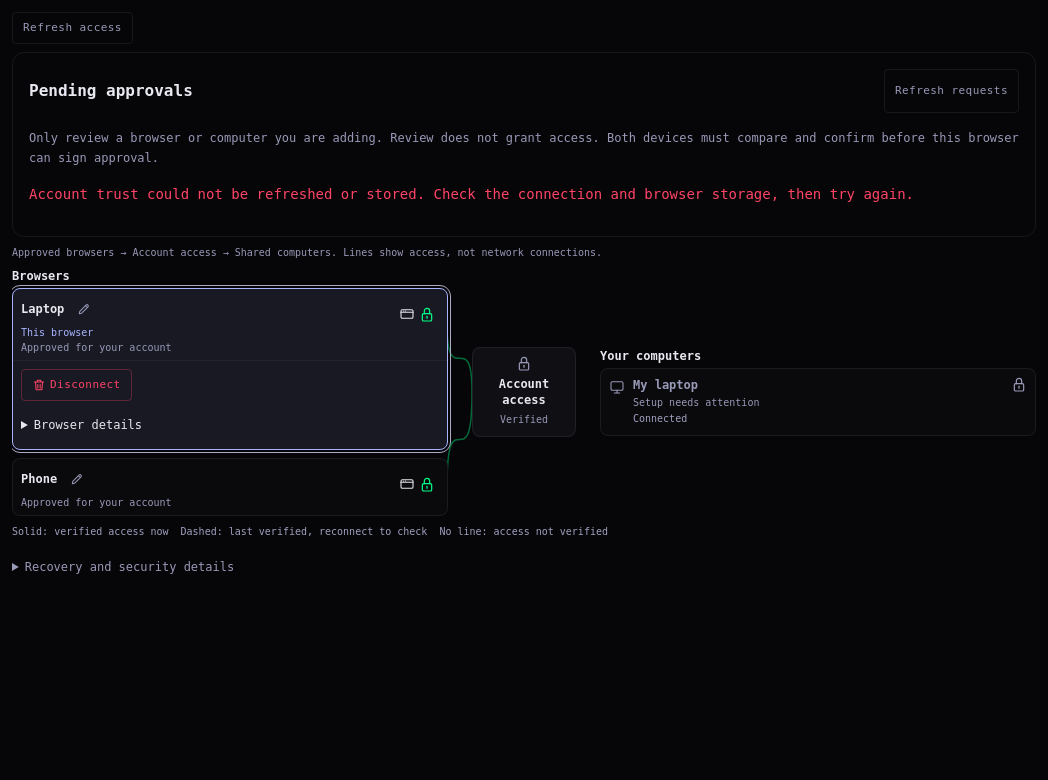
Test case: Account devices › keeps roster-only computers unlinked and reveals sharing only after selecting the computer
Check: the text "Setup needs attention" is shown, box x1=633 y1=397 x2=759 y2=408
Check: the button "Share with my other browsers" is not shown
Click the button with aria-label "Computer My laptop:": x=666, y=385 x1=601 y1=369 x2=1035 y2=435
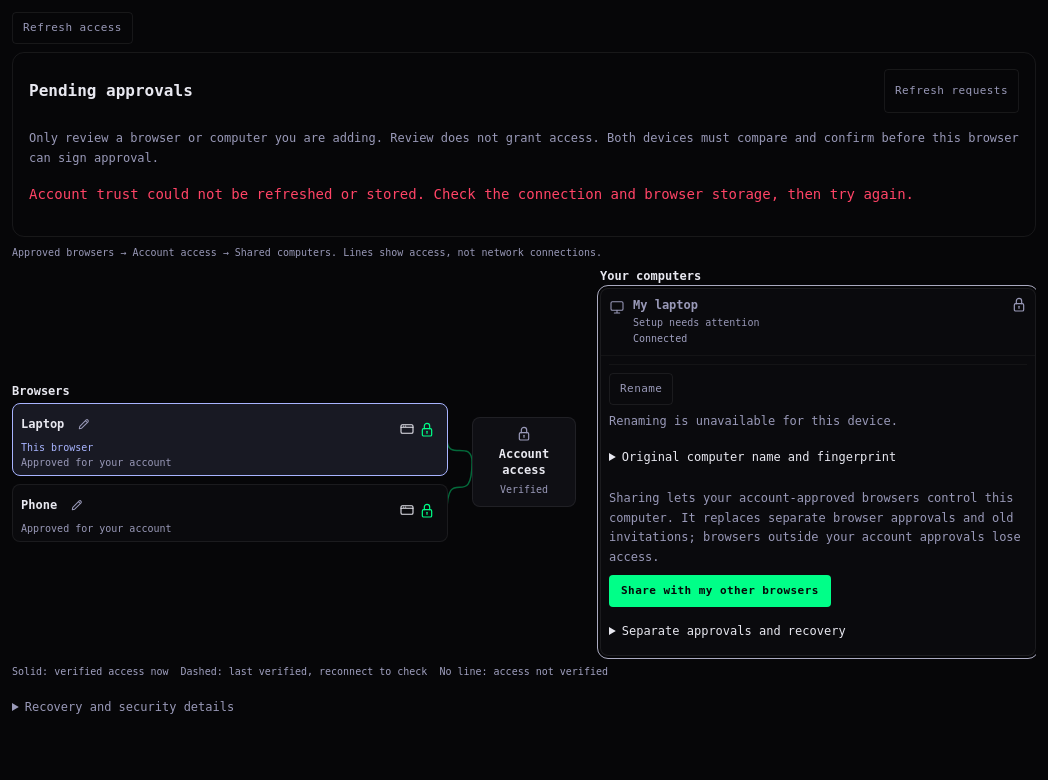
Check: the button "Share with my other browsers" is shown, box x1=609 y1=575 x2=831 y2=607
Check: the text "browsers outside your account approvals lose access" is shown, box x1=609 y1=491 x2=1021 y2=564
